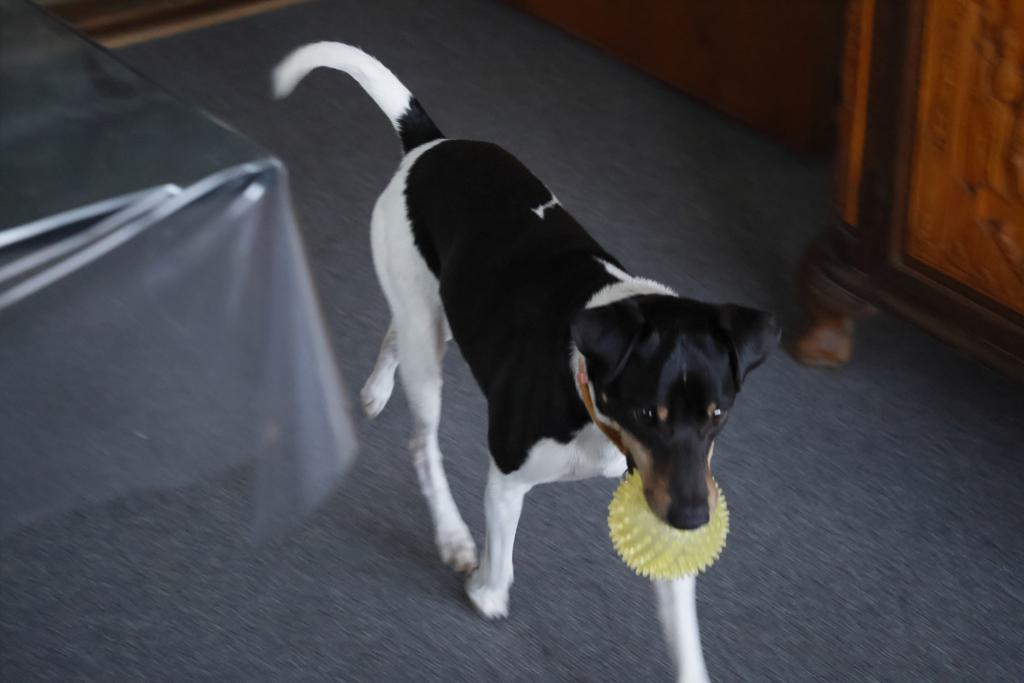Dog: (262, 28, 792, 683)
